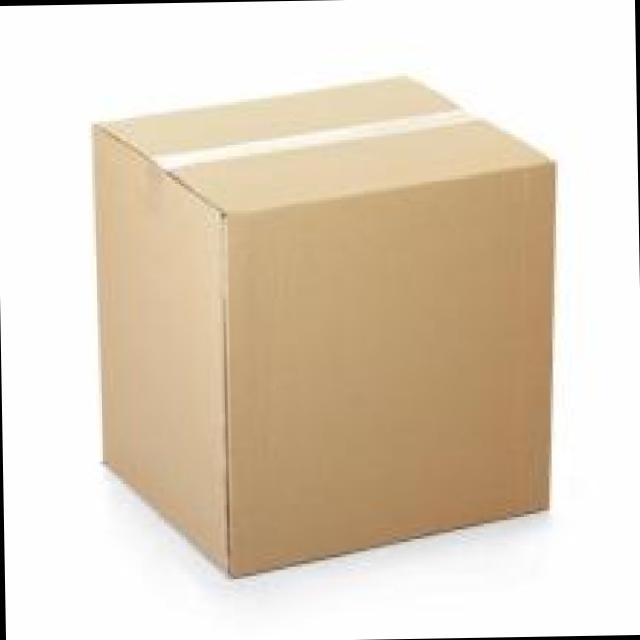box: (94, 74, 555, 578)
